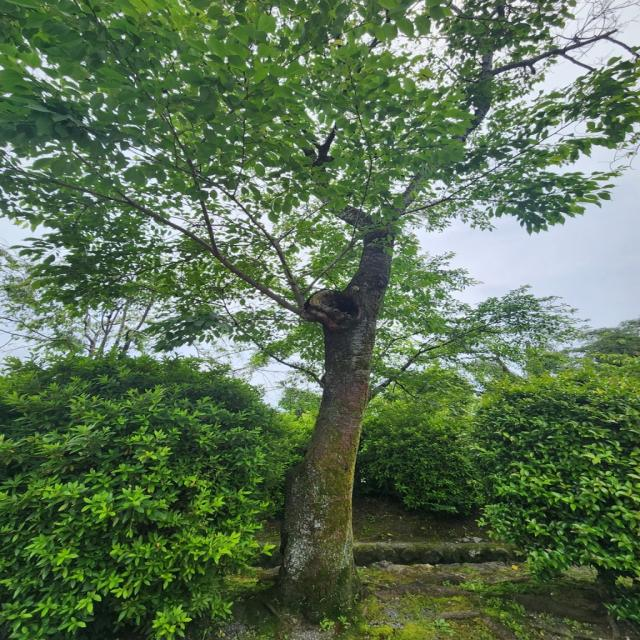sakura: (0, 0, 640, 625)
